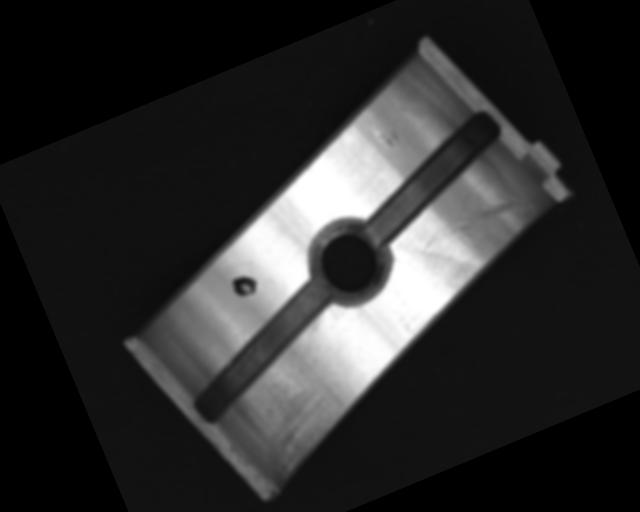blot: (229, 271, 262, 301)
bruise: (367, 114, 402, 153)
gap: (168, 275, 358, 428), (337, 107, 524, 249)
hole: (295, 206, 407, 320)
nick: (401, 167, 540, 260)
scratch: (222, 315, 376, 487)
